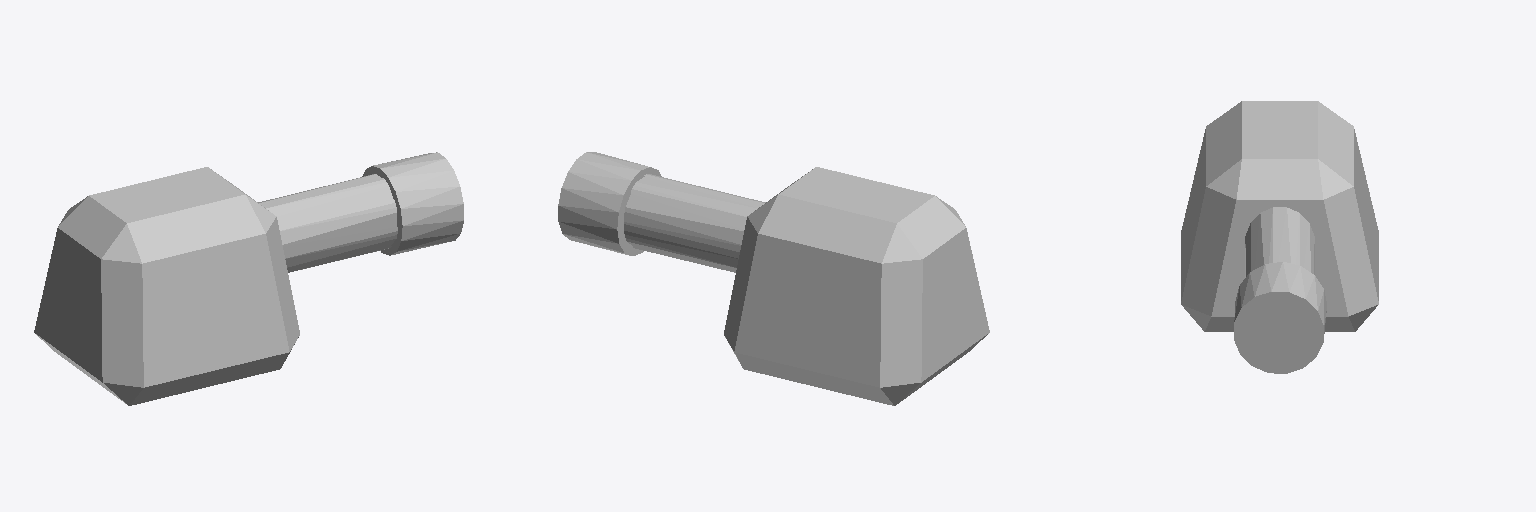
File: tankHead.obj
3 views of the same model, side by side, from view 1: azimuth 30°, elevation 25°; view 2: azimuth 150°, elevation 25°; view 3: azimuth 270°, elevation 25° (orthographic).
Visible parts, largest first — view 1: Head, Canon, Cylinder; view 2: Head, Canon, Cylinder; view 3: Head, Cylinder, Canon.
Boxes of the visible parts, box(x1,y1,x2,y2) form: Head: box(34, 167, 299, 405); Canon: box(258, 174, 397, 272); Cylinder: box(362, 152, 463, 255); Head: box(724, 167, 989, 405); Canon: box(624, 174, 765, 272); Cylinder: box(558, 152, 661, 255); Head: box(1181, 101, 1378, 331); Cylinder: box(1234, 262, 1326, 373); Canon: box(1245, 207, 1314, 277).
Size of the model in its own units: 2.77 by 1.17 by 1.27.